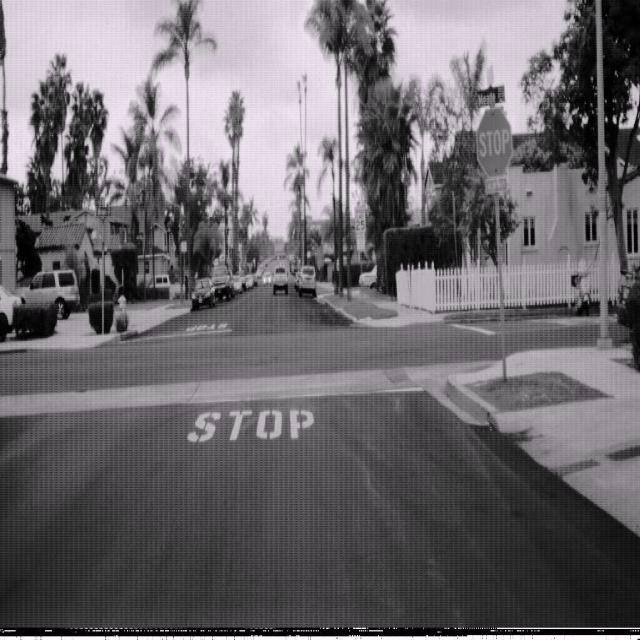stop_sign: (476, 105, 513, 179)
